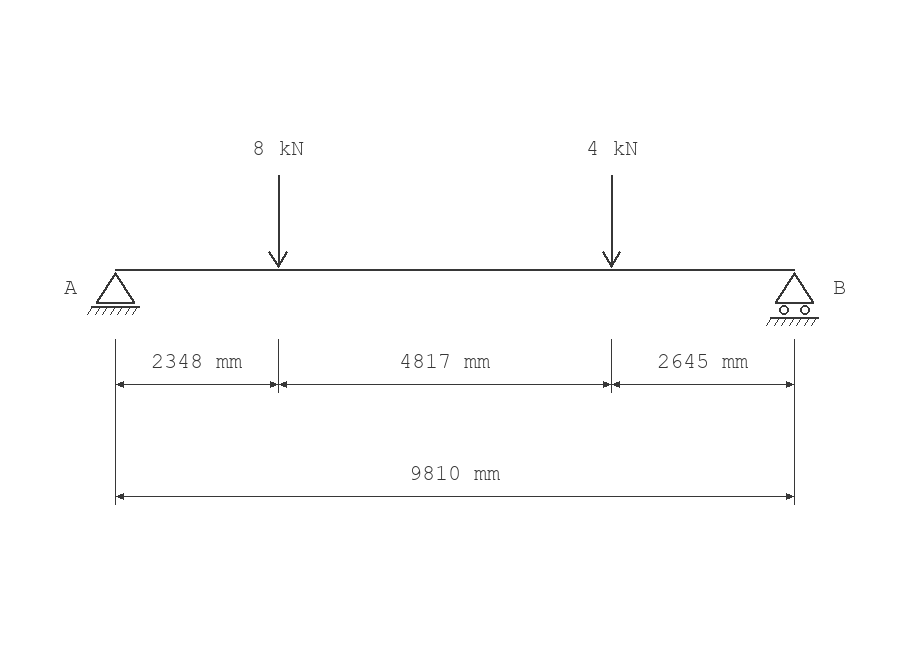pin_support: (87, 272, 140, 315)
point_load: (268, 175, 288, 268), (602, 175, 621, 268)
roller_support: (766, 272, 819, 326)
